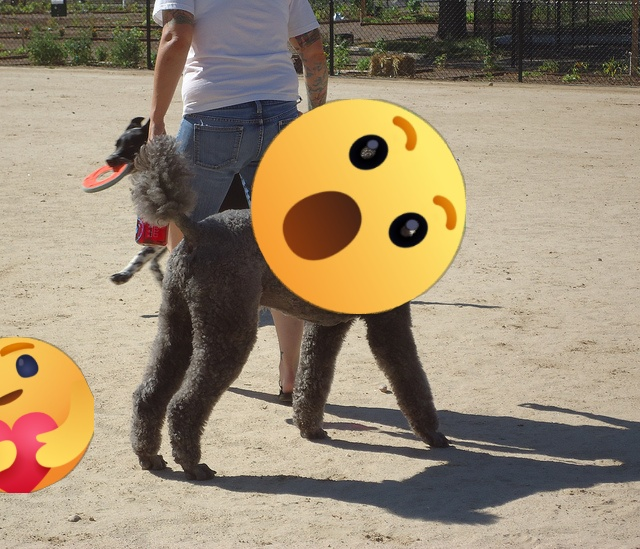care: (0, 337, 94, 493)
wow: (251, 99, 466, 314)
